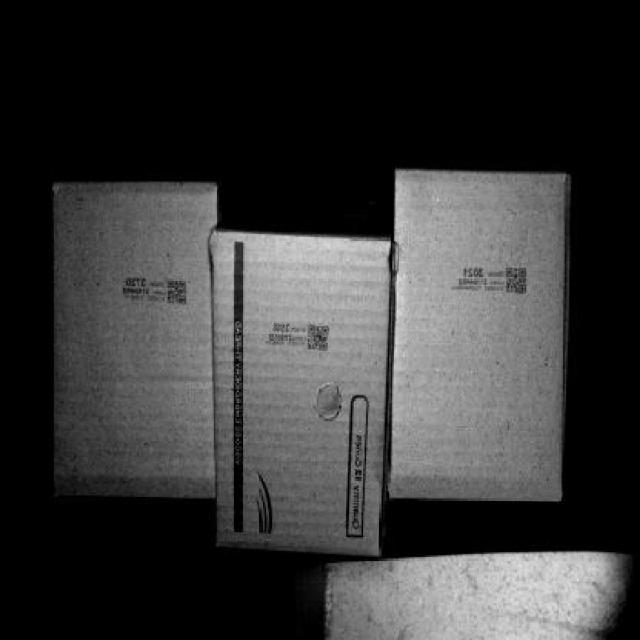cardboxes: (391, 176, 563, 504), (212, 243, 391, 551), (54, 182, 212, 496)
